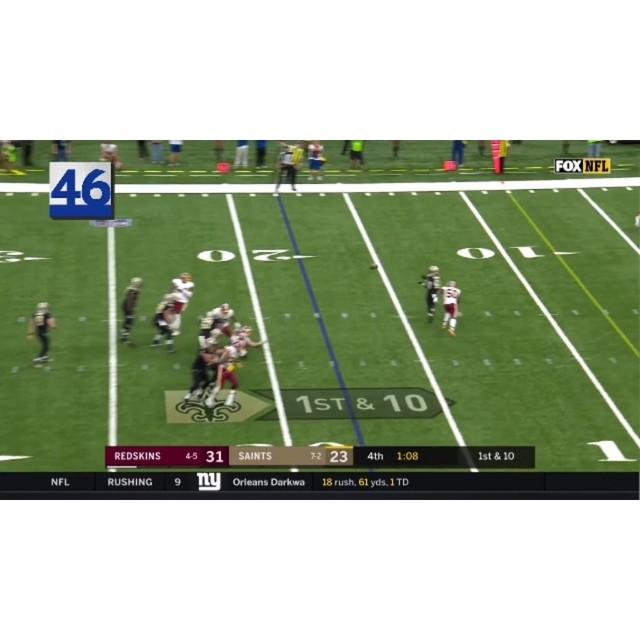american-football-player: (205, 340, 244, 410), (186, 338, 219, 401), (26, 301, 58, 363), (119, 277, 144, 342), (151, 296, 177, 353), (418, 264, 442, 322), (439, 279, 462, 337), (231, 325, 264, 360), (213, 303, 239, 339), (196, 309, 216, 348)
referee: (273, 142, 301, 196)
